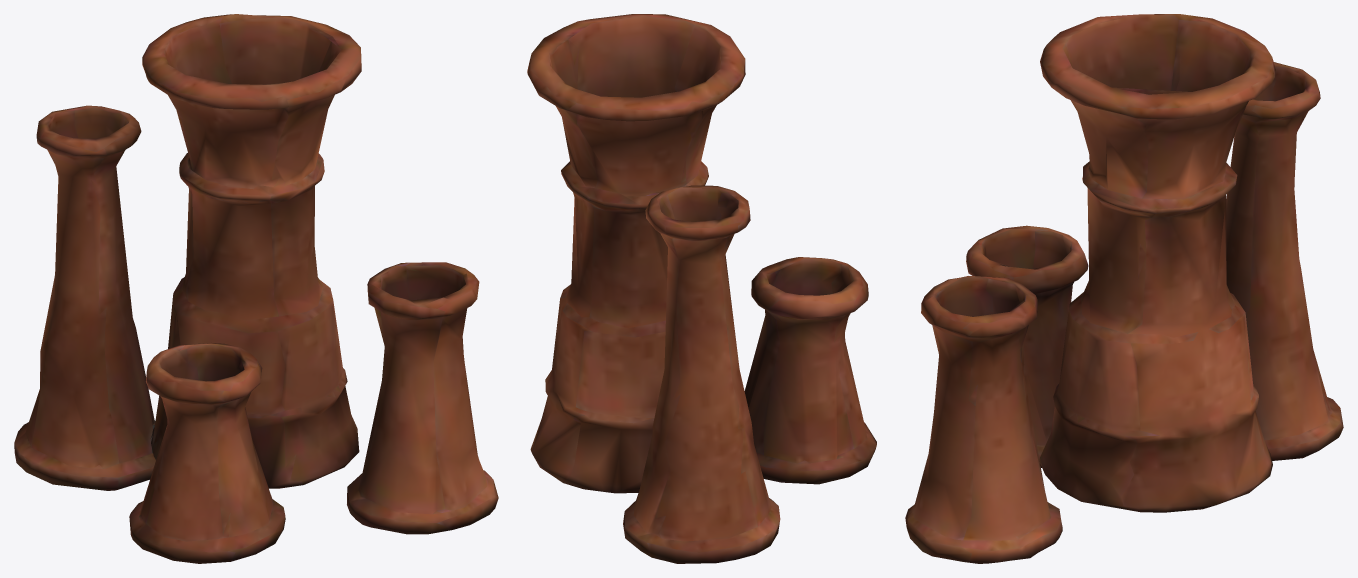
The model's file is plain-terracotta-chimney-stack-v002.glb.
3 renders of one model, left to right at view 1: azimuth 30°, elevation 25°; view 2: azimuth 150°, elevation 25°; view 3: azimuth 270°, elevation 25°, orthographic. The views are drawn at different scales.
Visible parts, largest first — view 1: plain-terracotta-chimney-stack; view 2: plain-terracotta-chimney-stack; view 3: plain-terracotta-chimney-stack.
Boxes of the visible parts, left/top/right/bottom form: plain-terracotta-chimney-stack: left=14, top=14, right=498, bottom=563; plain-terracotta-chimney-stack: left=527, top=14, right=876, bottom=563; plain-terracotta-chimney-stack: left=905, top=14, right=1343, bottom=563.
Size of the model in its own units: 1.04 by 1.25 by 1.13.
Materials: 1 (1 with a texture image).
